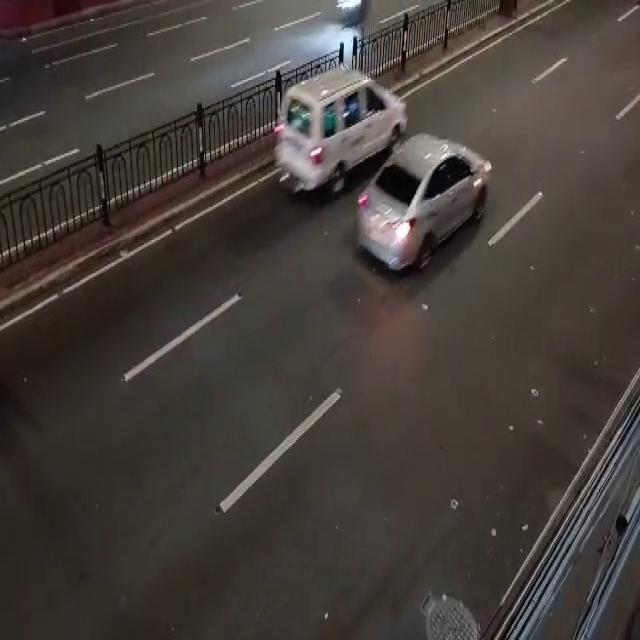car: (347, 120, 526, 312), (253, 66, 425, 204)
